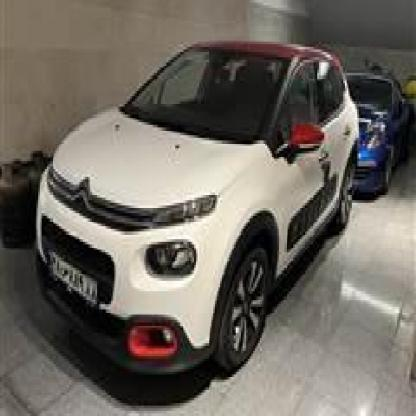Car: (32, 34, 356, 387), (331, 70, 416, 208)
